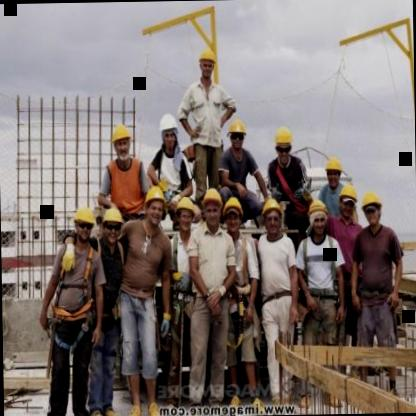helmet: (109, 119, 136, 163), (154, 108, 180, 152), (306, 195, 330, 242), (70, 204, 98, 243), (98, 206, 124, 248), (142, 185, 168, 226), (360, 192, 387, 230), (172, 192, 195, 235), (196, 39, 218, 83), (222, 193, 244, 236), (200, 186, 221, 230), (272, 122, 292, 167), (260, 198, 283, 236), (336, 182, 360, 216), (227, 118, 245, 156), (324, 154, 342, 190)
